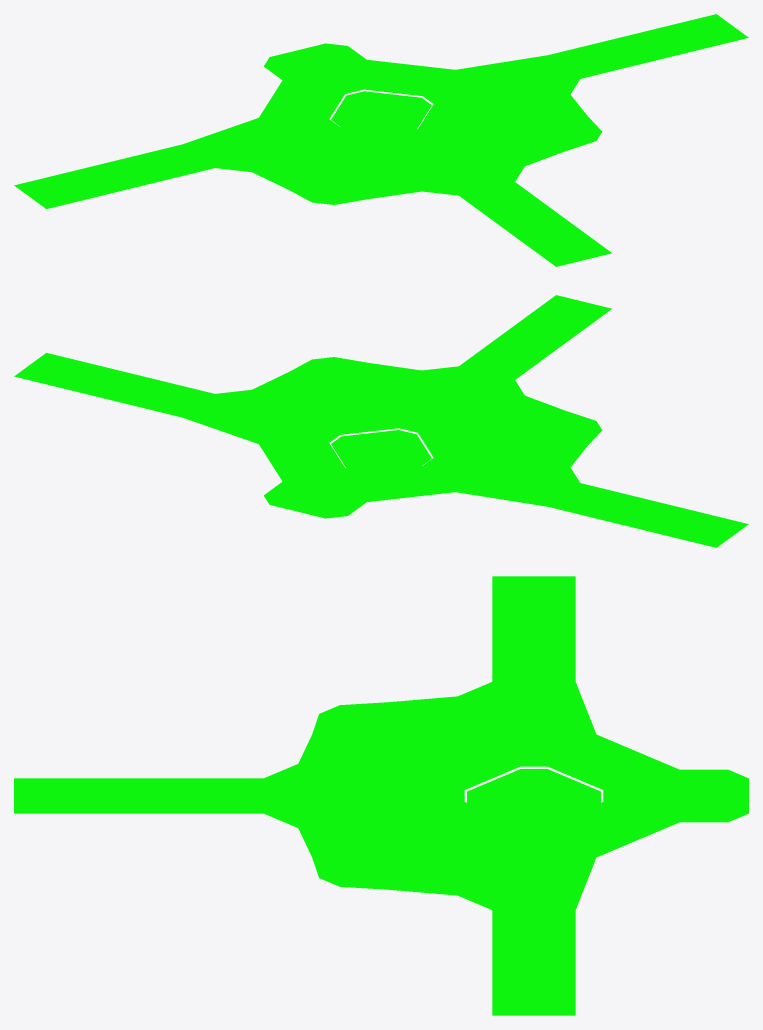
Rendered from s06b_tb3-floor.glb.
3 renders of one model, top to bottom at view 1: azimuth 30°, elevation 25°; view 2: azimuth 150°, elevation 25°; view 3: azimuth 270°, elevation 25°, orthographic. The views are drawn at different scales.
Parts seen in each view (by area): view 1: collision_floor-colonly; view 2: collision_floor-colonly; view 3: collision_floor-colonly.
Boxes of the visible parts, x1=… form: collision_floor-colonly: x1=14, y1=14, x2=748, y2=266; collision_floor-colonly: x1=14, y1=295, x2=748, y2=547; collision_floor-colonly: x1=14, y1=576, x2=748, y2=1015.
Bounding box in the file's own units: 75 × 0.0996 × 53.
